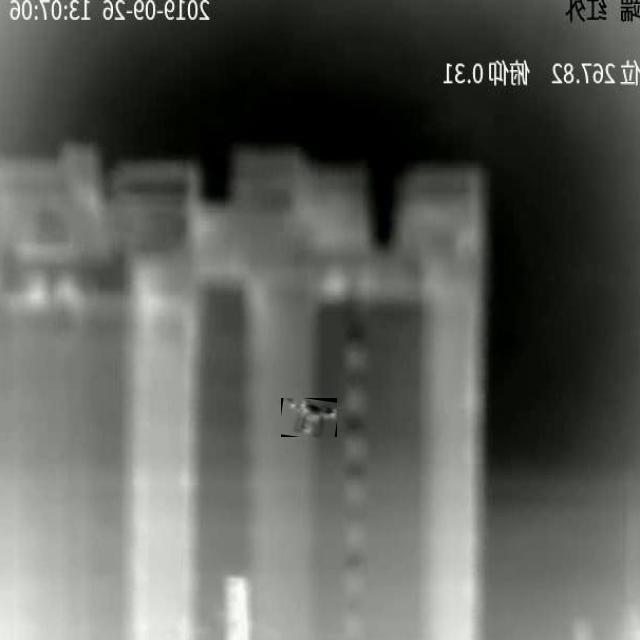drone: (283, 398, 337, 437)
